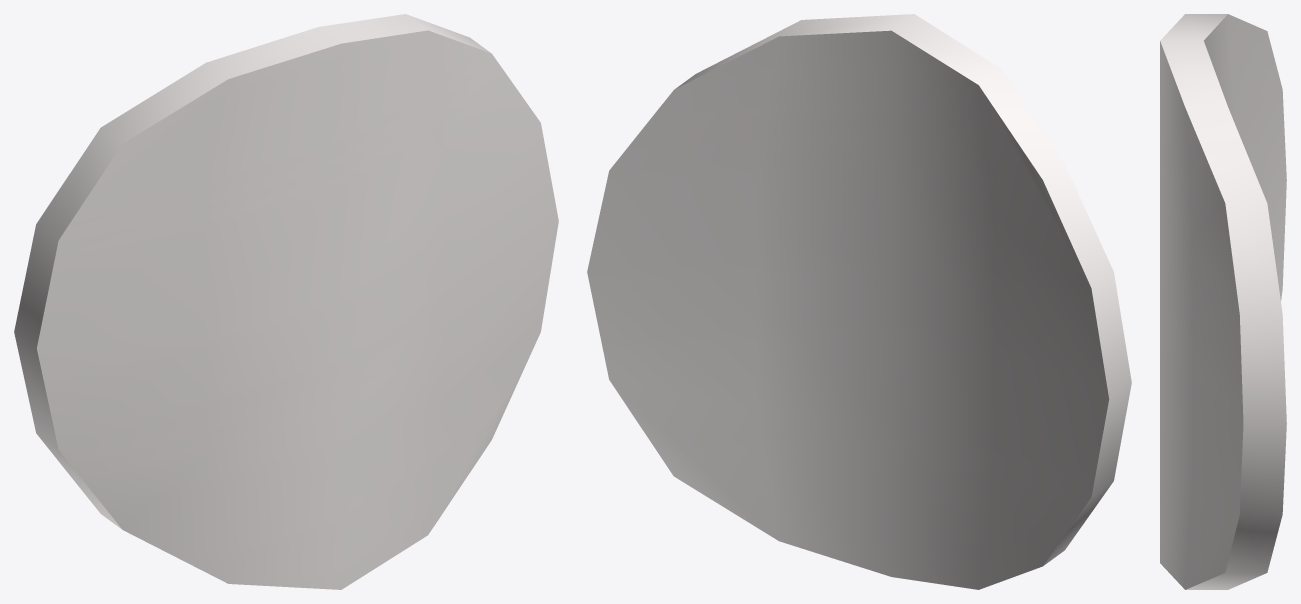
The model's file is mask_02.fbx.
The picture shows the model from 3 angles, left to right: view 1: azimuth 30°, elevation 25°; view 2: azimuth 150°, elevation 25°; view 3: azimuth 270°, elevation 25°; orthographic projection. The views are drawn at different scales.
Visible parts, largest first — view 1: Mask_02; view 2: Mask_02; view 3: Mask_02.
Part boxes in pixels (box(x1,y1,x2,y2)): Mask_02: box(14, 14, 558, 589); Mask_02: box(587, 14, 1131, 589); Mask_02: box(1160, 14, 1286, 589).
Size of the model in its own units: 121 by 121 by 26.62.
